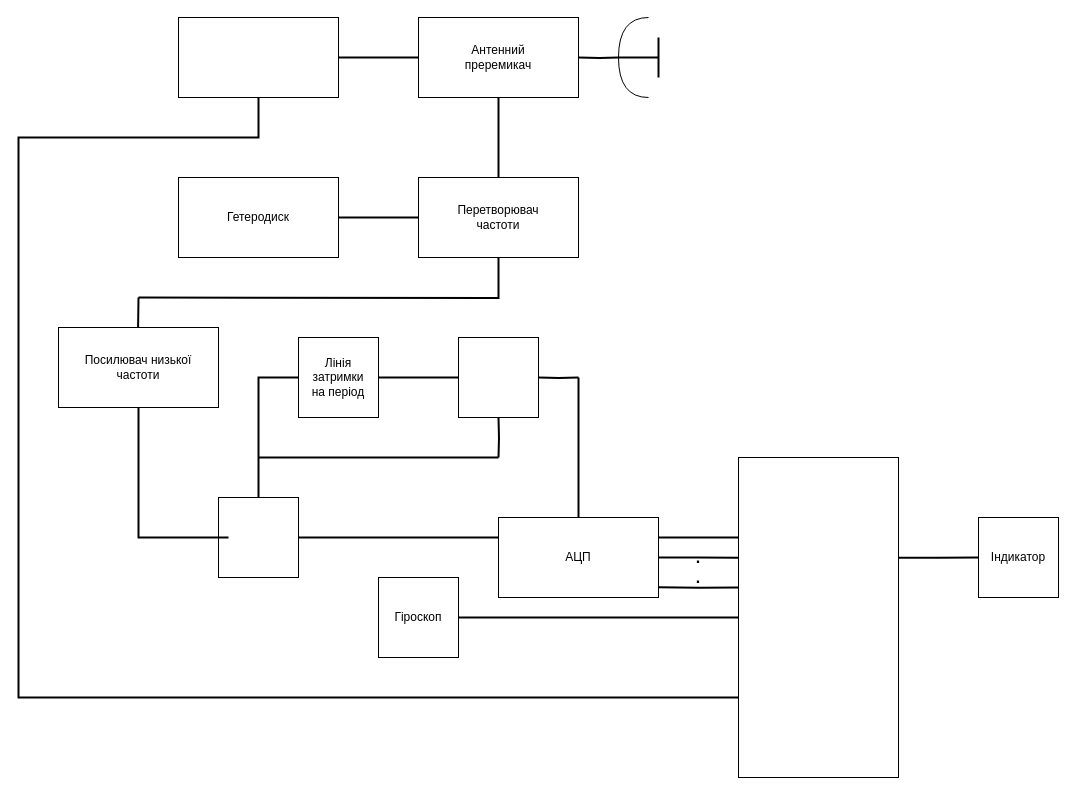
This 1076x795 diagram has some shape labels left out. The box of each missing label's shape, as (x1, y1, x2, y2) in pixels:
Блок вибору режиму: (218, 496, 298, 578)
Віднімаючий пристрій: (458, 336, 538, 418)
Керований генератор високої частоти: (178, 16, 338, 98)
Процессор керування і обробки: (738, 456, 898, 778)
